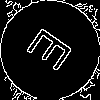E: (25, 25, 82, 79)
